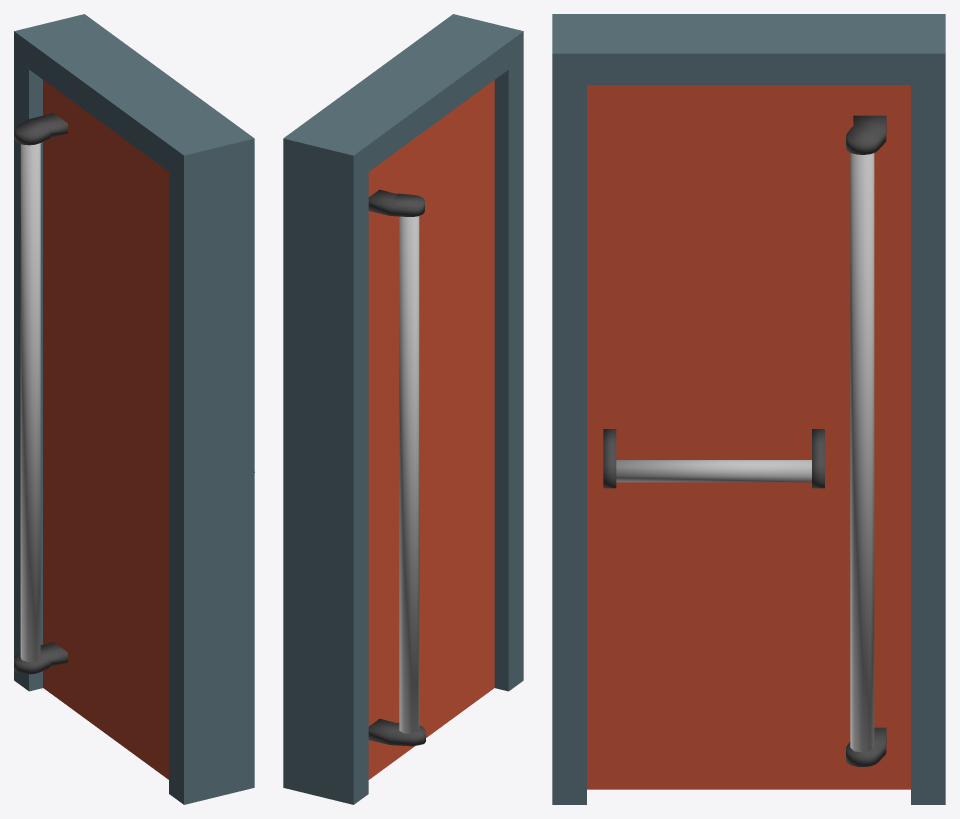
Rendered from 3DModel_ExitDoor.glb.
3 views of the same model, side by side, from view 1: azimuth 30°, elevation 25°; view 2: azimuth 150°, elevation 25°; view 3: azimuth 270°, elevation 25° (orthographic). The views are drawn at different scales.
Parts seen in each view (by area): view 1: Door, AH_Ausgangstür; view 2: AH_Ausgangstür, Door; view 3: Door, AH_Ausgangstür.
Part boxes in pixels (x1,y1,x2,y2): Door: [14, 80, 254, 779]; AH_Ausgangstür: [14, 14, 254, 804]; AH_Ausgangstür: [283, 14, 523, 804]; Door: [368, 80, 494, 779]; Door: [587, 85, 910, 789]; AH_Ausgangstür: [552, 14, 945, 804].
Size of the model in its own units: 0.4092 by 1.99 by 0.9425.
Materials: 1 (1 with a texture image).
